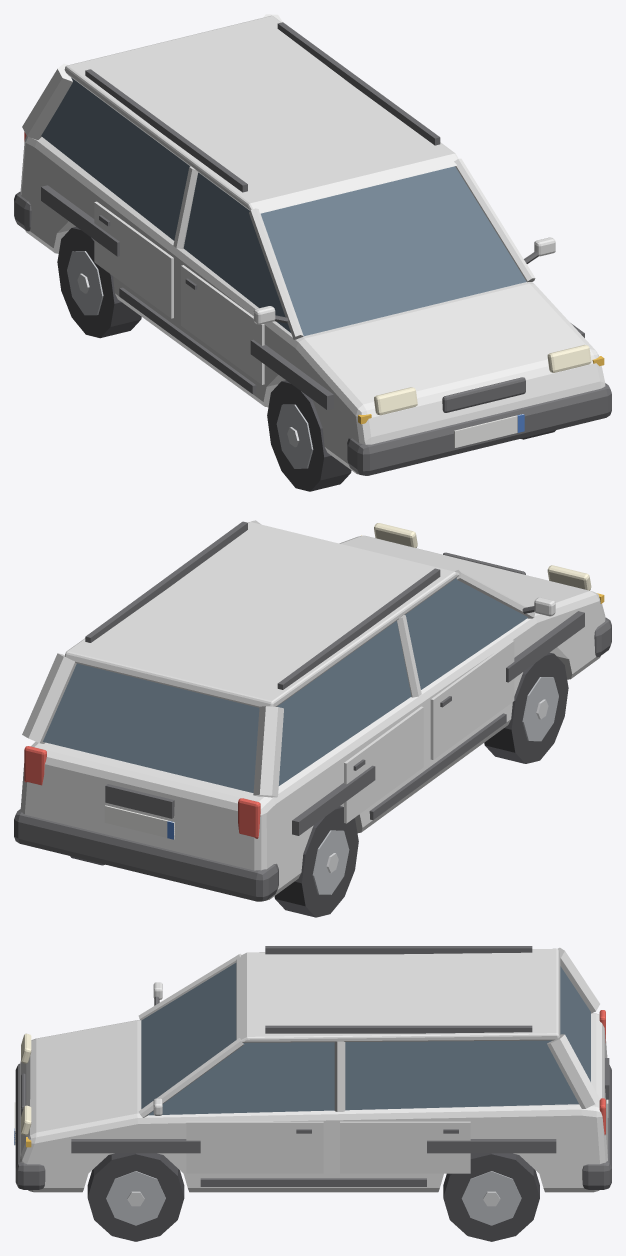
The model's file is car-suv.glb.
3 views of the same model, one above another, from view 1: azimuth 30°, elevation 25°; view 2: azimuth 150°, elevation 25°; view 3: azimuth 270°, elevation 25° (orthographic). The views are drawn at different scales.
Visible parts, largest first — view 1: body, detach_bumper_front, wheel-front-right, wheel-back-right, detach_door_right; view 2: body, detach_bumper_back, wheel-front-right, wheel-back-right, detach_door_right, detach_bumper_front; view 3: body, detach_door_left, wheel-front-left, wheel-back-left, detach_bumper_front, detach_bumper_back.
Part boxes in pixels (box(x1,y1,x2,y2)): body: box(20, 14, 605, 474); detach_bumper_front: box(347, 383, 611, 475); wheel-front-right: box(267, 380, 351, 491); wheel-back-right: box(57, 226, 141, 338); detach_door_right: box(181, 265, 264, 384); body: box(20, 520, 605, 900); detach_bumper_back: box(14, 809, 278, 901); wheel-front-right: box(484, 652, 568, 763); wheel-back-right: box(274, 806, 358, 917); detach_door_right: box(430, 640, 514, 759); detach_bumper_front: box(594, 617, 611, 657); body: box(19, 946, 609, 1192); detach_door_left: box(186, 1121, 323, 1173); wheel-front-left: box(87, 1153, 184, 1241); wheel-back-left: box(443, 1153, 539, 1241); detach_bumper_front: box(14, 1063, 45, 1189); detach_bumper_back: box(582, 1065, 611, 1189).
Size of the model in its own units: 2.24 by 1.73 by 4.57.
